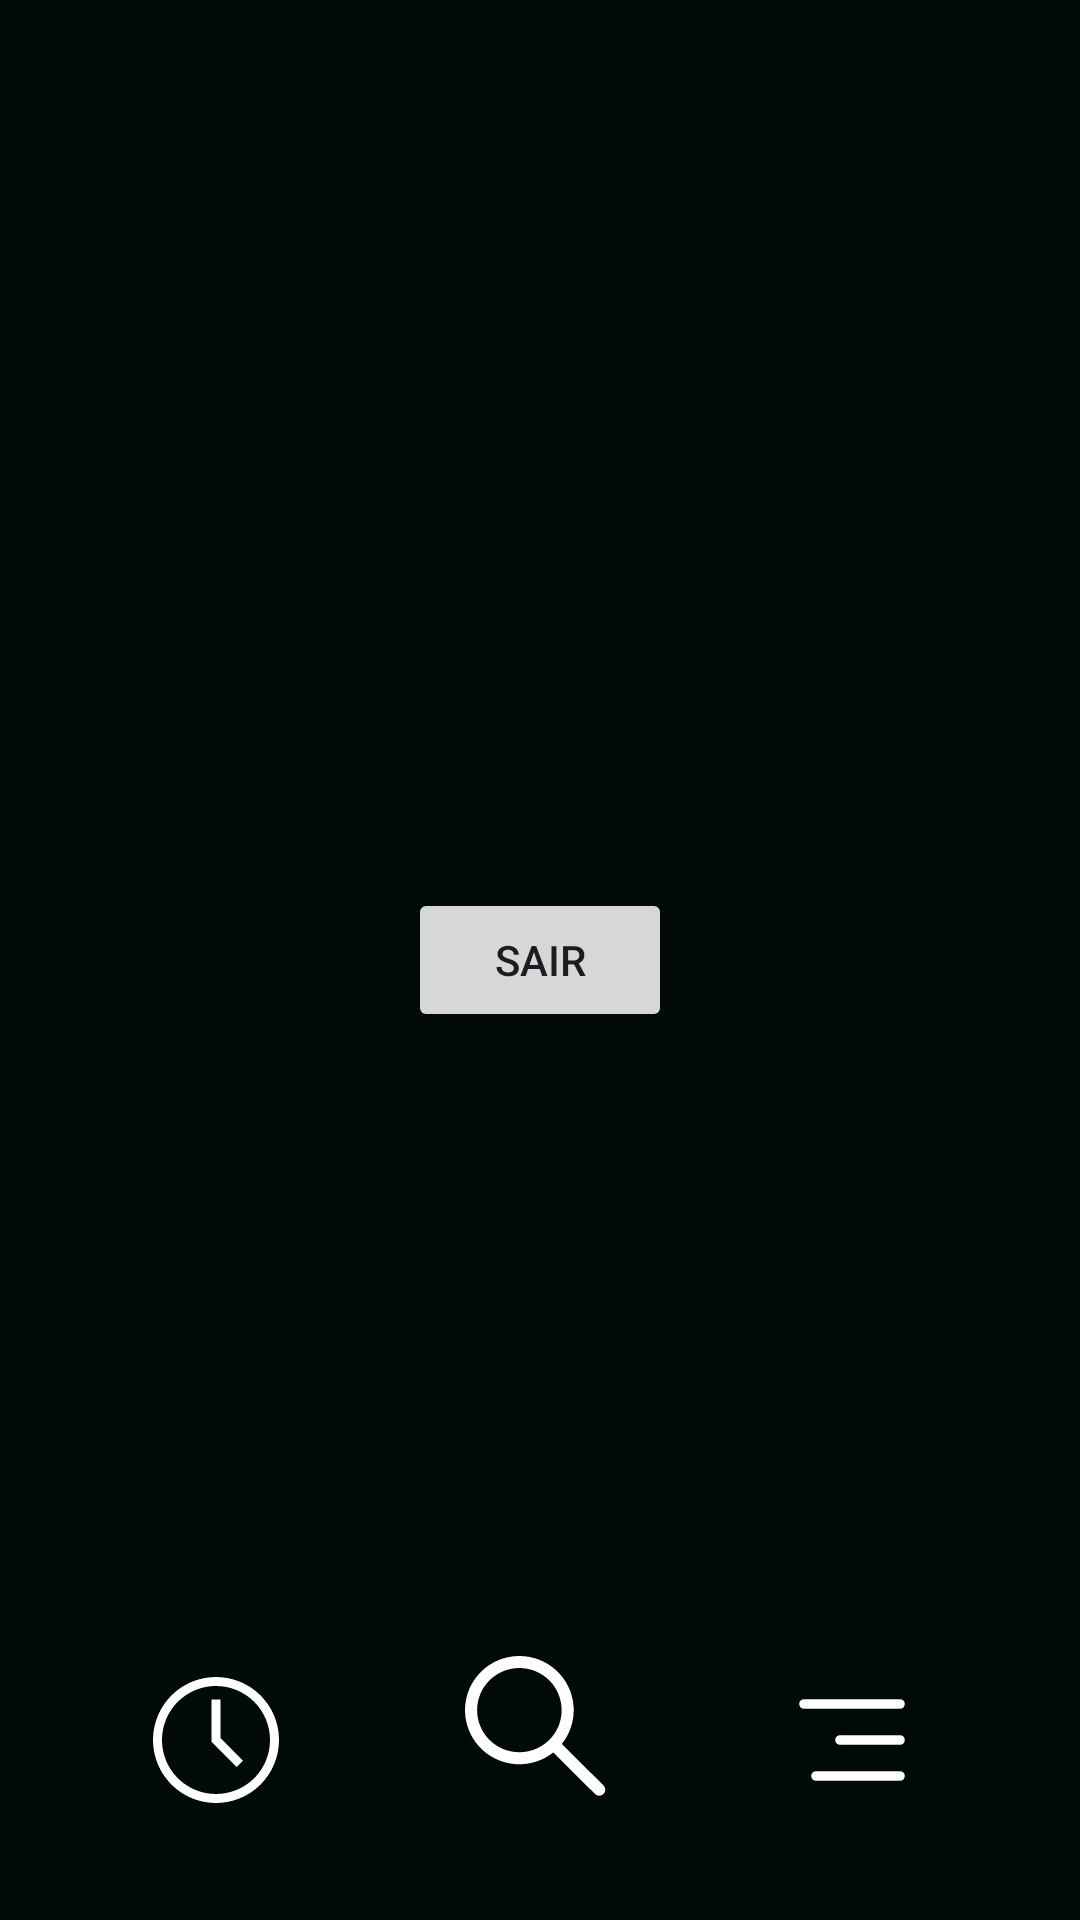

Icons on this 1080*1920 Android screen, each with its box as {"left": x1, "top": y1, "right": x2, "bottom": y2}:
Listar: {"left": 799, "top": 1699, "right": 905, "bottom": 1781}
Pesquisa: {"left": 465, "top": 1656, "right": 606, "bottom": 1796}
RELOGIO: {"left": 153, "top": 1677, "right": 279, "bottom": 1803}
